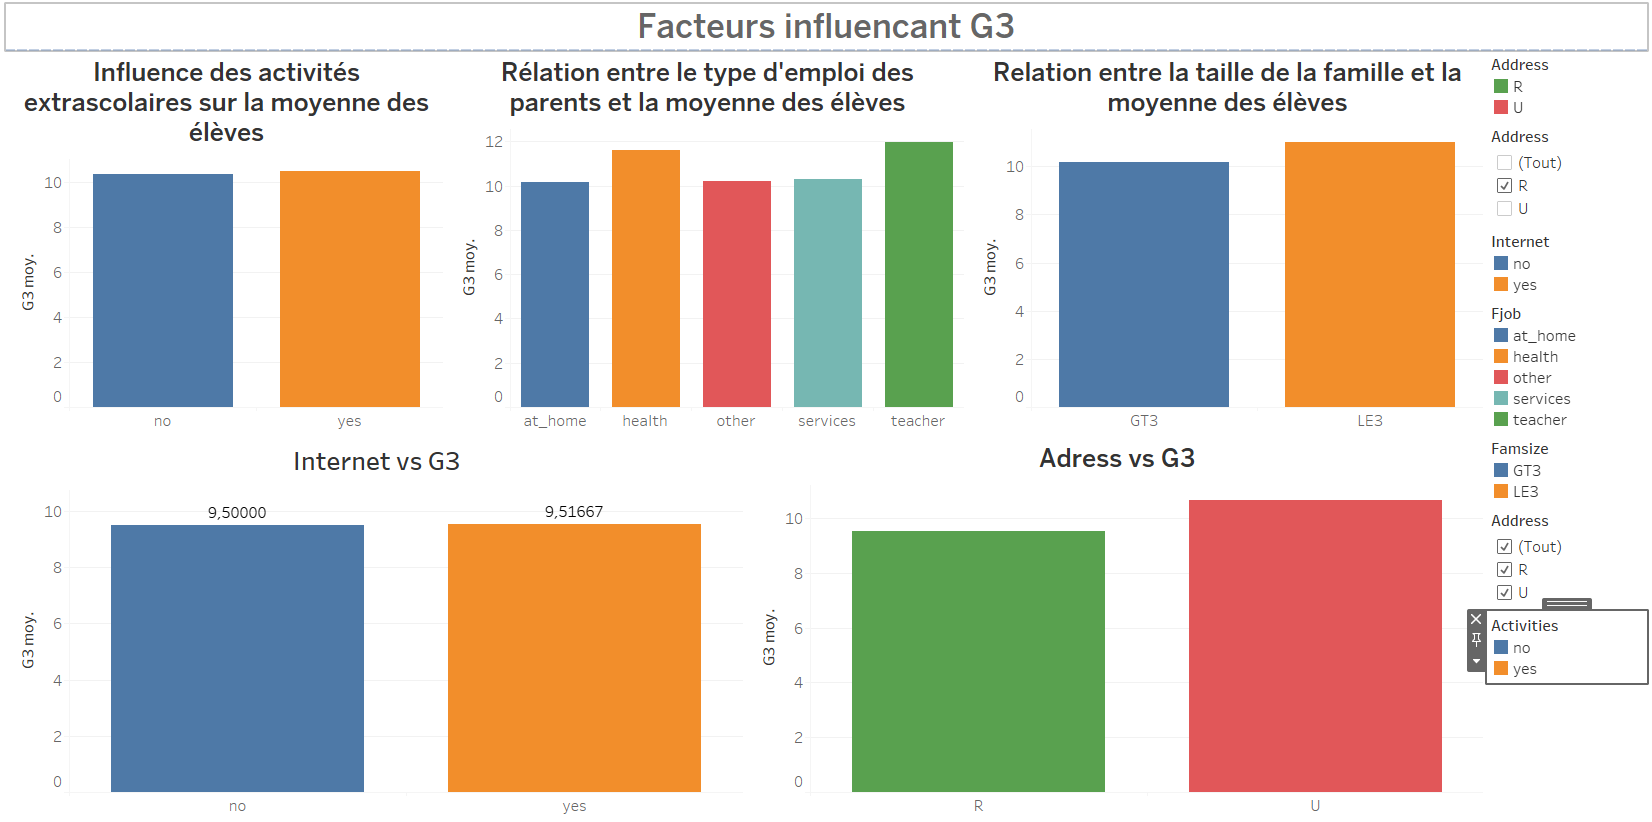

The page's visual inventory and layout, read from the dashboard file:
{"tool":"tableau","page":{"name":"Influence sur G3","canvas":[1000,1000],"units":"permille","ordinal":2},"visuals":[{"type":"text","box":[4.8,9.6,990.3,55.2]},{"type":"worksheet","title":"ActivitéExtraScolaire et Moyenne","mark":"Automatic","rows":["G3"],"cols":["activities"],"box":[4.8,64.8,266.1,462.8]},{"type":"worksheet","title":"FJob vs G3","mark":"Automatic","rows":["G3"],"cols":["Fjob"],"box":[271,64.8,314.4,462.8]},{"type":"worksheet","title":"Taille Famille vs G3","mark":"Automatic","rows":["G3"],"cols":["famsize"],"box":[585.4,64.8,313.2,462.8]},{"type":"legend","title":"Adress vs G3","param":"[federated.1fipl6l15pd20x1gmdwpp1nmb3ds].[none:address:nk]","box":[898.6,64.8,96.6,86.4]},{"type":"filter","title":"Internet vs G3","param":"[federated.1fipl6l15pd20x1gmdwpp1nmb3ds].[none:address:nk]","box":[898.6,151.3,96.6,126]},{"type":"legend","title":"Internet vs G3","param":"[federated.1fipl6l15pd20x1gmdwpp1nmb3ds].[none:internet:nk]","box":[898.6,277.3,96.6,86.4]},{"type":"legend","title":"FJob vs G3","param":"[federated.1fipl6l15pd20x1gmdwpp1nmb3ds].[none:Fjob:nk]","box":[898.6,363.7,96.6,162.1]},{"type":"legend","title":"Taille Famille vs G3","param":"[federated.1fipl6l15pd20x1gmdwpp1nmb3ds].[none:famsize:nk]","box":[898.6,525.8,96.6,86.4]},{"type":"worksheet","title":"Internet vs G3","mark":"Automatic","rows":["G3"],"cols":["internet"],"box":[4.8,527.6,446.9,462.8]},{"type":"worksheet","title":"Adress vs G3","mark":"Automatic","rows":["G3"],"cols":["address"],"box":[451.7,527.6,446.9,462.8]},{"type":"filter","title":"ActivitéExtraScolaire et Moyenne","param":"[federated.1fipl6l15pd20x1gmdwpp1nmb3ds].[none:address:nk]","box":[898.6,612.2,96.6,126]},{"type":"legend","title":"ActivitéExtraScolaire et Moyenne","param":"[federated.1fipl6l15pd20x1gmdwpp1nmb3ds].[none:activities:nk]","box":[898.6,738.3,96.6,86.4]}]}

Visuals, with their boxes on the dashboard's canvas, which has no fixed pixel size, in thousandths of its width and height (x1, y1, x2, y2). These are canvas units, not pixel positions in the 1652x822 screenshot, which may show the page scaled, cropped or inside an application window:
text: {"left": 5, "top": 10, "right": 995, "bottom": 65}
"ActivitéExtraScolaire et Moyenne" worksheet: {"left": 5, "top": 65, "right": 271, "bottom": 528}
"FJob vs G3" worksheet: {"left": 271, "top": 65, "right": 585, "bottom": 528}
"Taille Famille vs G3" worksheet: {"left": 585, "top": 65, "right": 899, "bottom": 528}
"Adress vs G3" legend: {"left": 899, "top": 65, "right": 995, "bottom": 151}
"Internet vs G3" filter: {"left": 899, "top": 151, "right": 995, "bottom": 277}
"Internet vs G3" legend: {"left": 899, "top": 277, "right": 995, "bottom": 364}
"FJob vs G3" legend: {"left": 899, "top": 364, "right": 995, "bottom": 526}
"Taille Famille vs G3" legend: {"left": 899, "top": 526, "right": 995, "bottom": 612}
"Internet vs G3" worksheet: {"left": 5, "top": 528, "right": 452, "bottom": 990}
"Adress vs G3" worksheet: {"left": 452, "top": 528, "right": 899, "bottom": 990}
"ActivitéExtraScolaire et Moyenne" filter: {"left": 899, "top": 612, "right": 995, "bottom": 738}
"ActivitéExtraScolaire et Moyenne" legend: {"left": 899, "top": 738, "right": 995, "bottom": 825}
